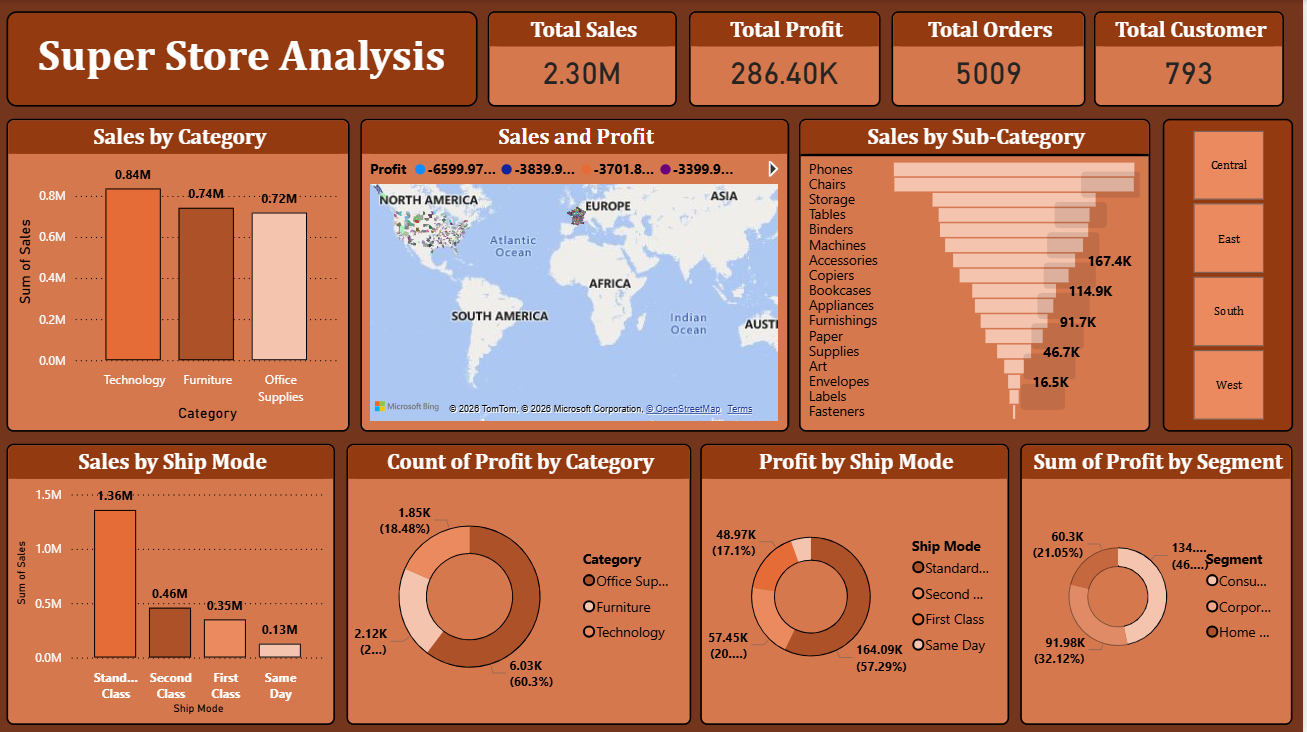

Layout of this report page (visuals, bound fields, positions):
{"tool":"powerbi","page":{"name":"DASHBOARD CREATE","canvas":[1280,720],"ordinal":0},"visuals":[{"type":"textbox","box":[7.4,11,462.6,93.3],"z":0},{"type":"card","title":"Total Sales","fields":{"Values":["Sum(Orders.Sales)"]},"box":[480.2,11.2,185.3,93.3],"z":1000},{"type":"card","title":"Total Profit","fields":{"Values":["Sum(Orders.Profit)"]},"box":[677.3,11,187.7,93.3],"z":2000},{"type":"card","title":"Total Orders","fields":{"Values":["Count(Orders.Order ID)"]},"box":[875.7,11.2,190.3,93.3],"z":3000},{"type":"card","title":"Total  Customer","fields":{"Values":["Count(Orders.Customer ID)"]},"box":[1074.8,11.2,186.6,93.3],"z":4000},{"type":"columnChart","title":"Sales by Category","fields":{"Y":["Sum(Orders.Sales)"],"Category":["Orders.Category"]},"box":[7.5,116.9,337.1,307.3],"z":5000},{"type":"filledMap","fields":{"Category":["Orders.Sales","Orders.State"],"Series":["Orders.Profit"]},"box":[354.5,116.9,420.5,307.3],"z":6000},{"type":"clusteredColumnChart","title":"Sales by Ship Mode","fields":{"Y":["Sum(Orders.Sales)"],"Category":["Orders.Ship Mode"]},"box":[7.4,435.6,322.7,276.1],"z":7000},{"type":"donutChart","fields":{"Y":["CountNonNull(Orders.Profit)"],"Category":["Orders.Category"]},"box":[340.8,435.4,338.4,276.2],"z":8000},{"type":"donutChart","title":"Profit by Ship Mode","fields":{"Category":["Orders.Ship Mode"],"Y":["Sum(Orders.Profit)"]},"box":[688.3,435.6,303.1,276.1],"z":9000},{"type":"donutChart","fields":{"Category":["Orders.Segment"],"Y":["Sum(Orders.Profit)"]},"box":[1002.6,435.4,267.5,276.2],"z":10000},{"type":"slicer","fields":{"Values":["Orders.Region"]},"box":[1142,116.9,128.1,307.3],"z":11000},{"type":"funnel","title":"Sales by Sub-Category","fields":{"Y":["Sum(Orders.Sales)"],"Category":["Orders.Sub-Category"]},"box":[784.9,116.9,344.6,307.3],"z":12000}]}

Visuals, with their boxes in screenshot pixels (x1, y1, x2, y2), scaled from the page's 1280x720 canvas onto the 1307x732 screenshot:
textbox: [left=8, top=11, right=480, bottom=106]
"Total Sales" card: [left=490, top=11, right=680, bottom=106]
"Total Profit" card: [left=692, top=11, right=883, bottom=106]
"Total Orders" card: [left=894, top=11, right=1088, bottom=106]
"Total  Customer" card: [left=1097, top=11, right=1288, bottom=106]
"Sales by Category" columnChart: [left=8, top=119, right=352, bottom=431]
filledMap - Orders.Sales x Orders.State: [left=362, top=119, right=791, bottom=431]
"Sales by Ship Mode" clusteredColumnChart: [left=8, top=443, right=337, bottom=724]
donutChart - CountNonNull(Orders.Profit) x Orders.Category: [left=348, top=443, right=694, bottom=723]
"Profit by Ship Mode" donutChart: [left=703, top=443, right=1012, bottom=724]
donutChart - Orders.Segment x Sum(Orders.Profit): [left=1024, top=443, right=1297, bottom=723]
slicer - Orders.Region: [left=1166, top=119, right=1297, bottom=431]
"Sales by Sub-Category" funnel: [left=801, top=119, right=1153, bottom=431]
